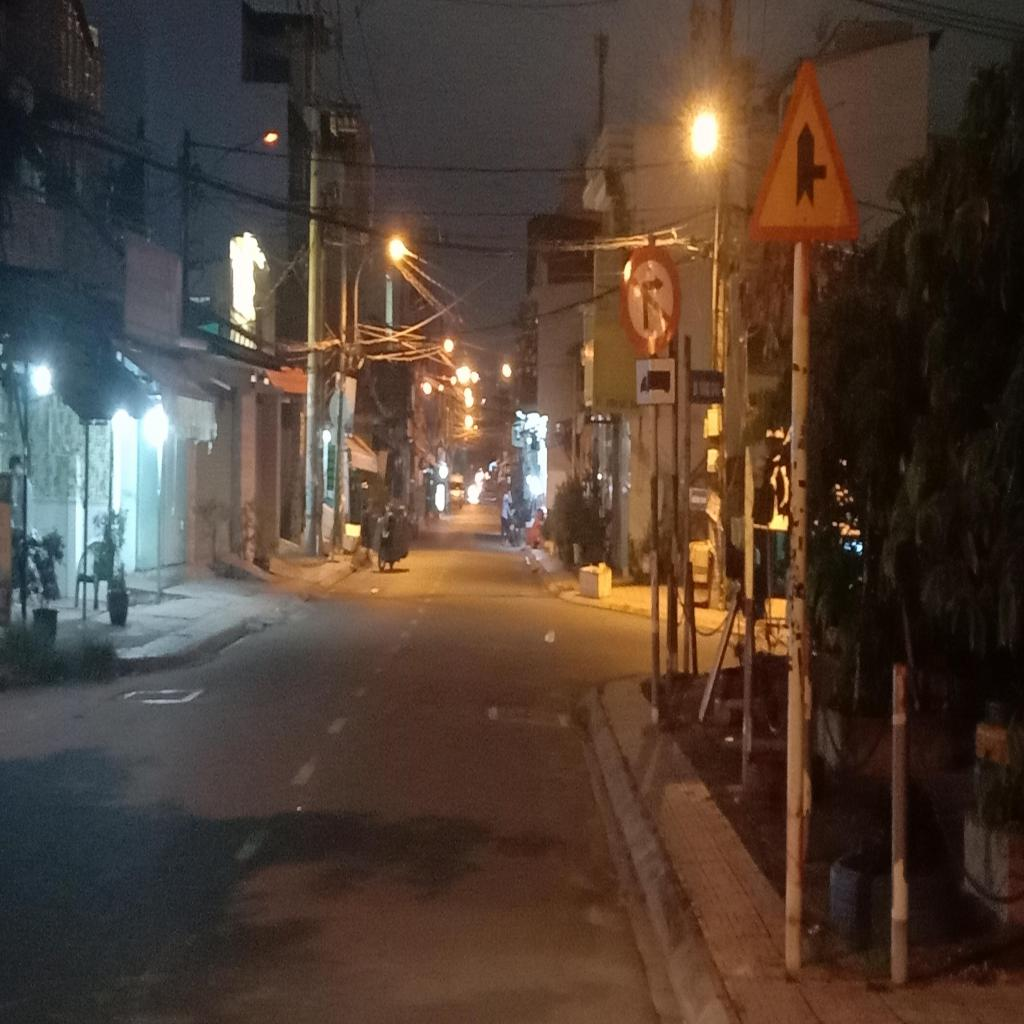cam_re_phai: (618, 246, 682, 354)
giao_nhau_voi_duong_khong_uu_tien: (745, 56, 860, 239)
khac: (636, 356, 676, 406)
